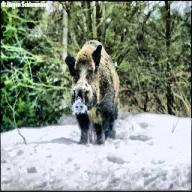boar: (63, 39, 120, 145)
